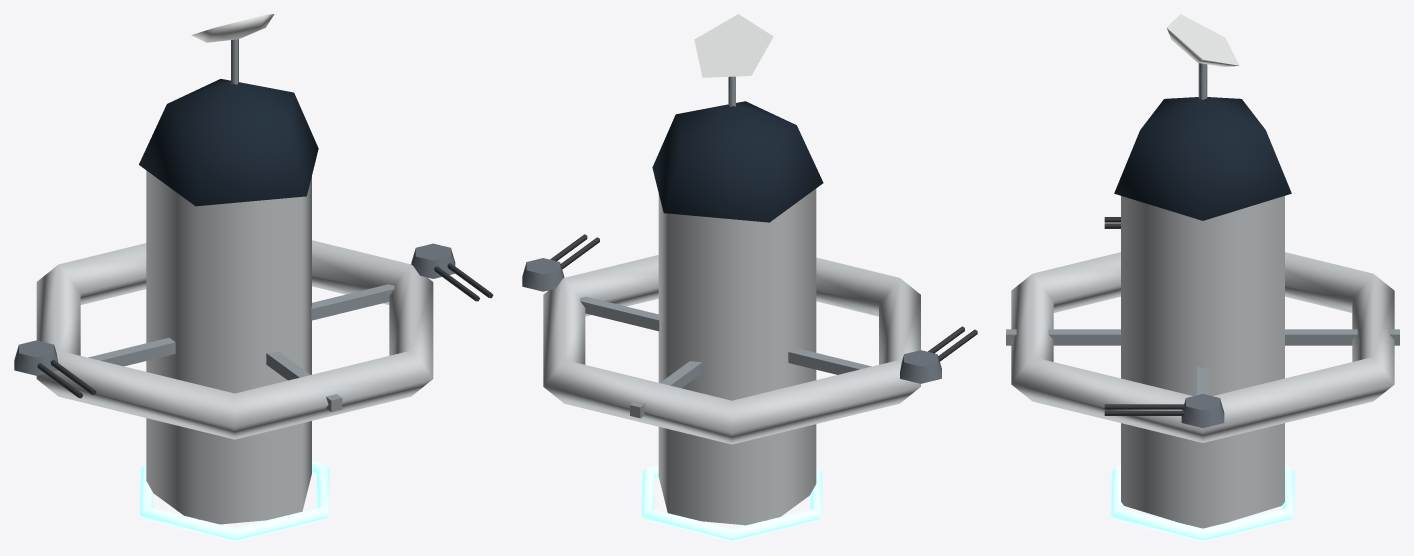
The model's file is space_orbital_command_center_t1_lod2.glb.
The picture shows the model from 3 angles, left to right: view 1: azimuth 30°, elevation 25°; view 2: azimuth 150°, elevation 25°; view 3: azimuth 270°, elevation 25°; orthographic projection. The views are drawn at different scales.
Parts seen in each view (by area): view 1: body, ring, turret_1, turret_0, antenna_0; view 2: body, ring, antenna_0, turret_1, turret_0; view 3: body, ring, antenna_0, turret_0.
Part boxes in pixels (left/top/right/bottom): body: left=139, top=79, right=329, bottom=541; ring: left=36, top=240, right=433, bottom=439; turret_1: left=14, top=340, right=96, bottom=398; turret_0: left=411, top=243, right=493, bottom=301; antenna_0: left=191, top=14, right=274, bottom=84; body: left=642, top=101, right=823, bottom=541; ring: left=543, top=255, right=920, bottom=444; antenna_0: left=694, top=14, right=773, bottom=106; turret_1: left=900, top=326, right=977, bottom=383; turret_0: left=522, top=234, right=599, bottom=291; body: left=1111, top=97, right=1294, bottom=541; ring: left=1006, top=252, right=1399, bottom=442; antenna_0: left=1166, top=14, right=1239, bottom=99; turret_0: left=1104, top=394, right=1224, bottom=427.
Size of the model in its own units: 20 by 21.46 by 16.
